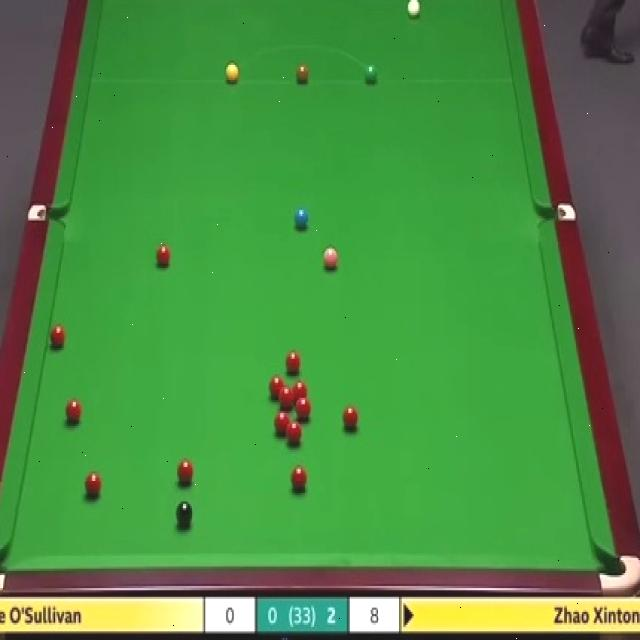black-ball: (176, 501, 193, 531)
blue-ball: (294, 205, 309, 231)
brown-ball: (296, 61, 309, 84)
green-ball: (363, 65, 378, 86)
pink-ball: (324, 246, 338, 269)
red-ball: (341, 404, 360, 433), (82, 474, 101, 503), (48, 324, 65, 353), (177, 458, 195, 484), (291, 463, 307, 492), (66, 396, 82, 424), (285, 350, 301, 376), (268, 374, 284, 400), (274, 409, 289, 436), (287, 422, 302, 447), (156, 243, 171, 266), (296, 398, 311, 420), (293, 382, 307, 403), (279, 386, 293, 406)
white-ball: (405, 0, 421, 22)
yellow-ball: (225, 63, 239, 85)
